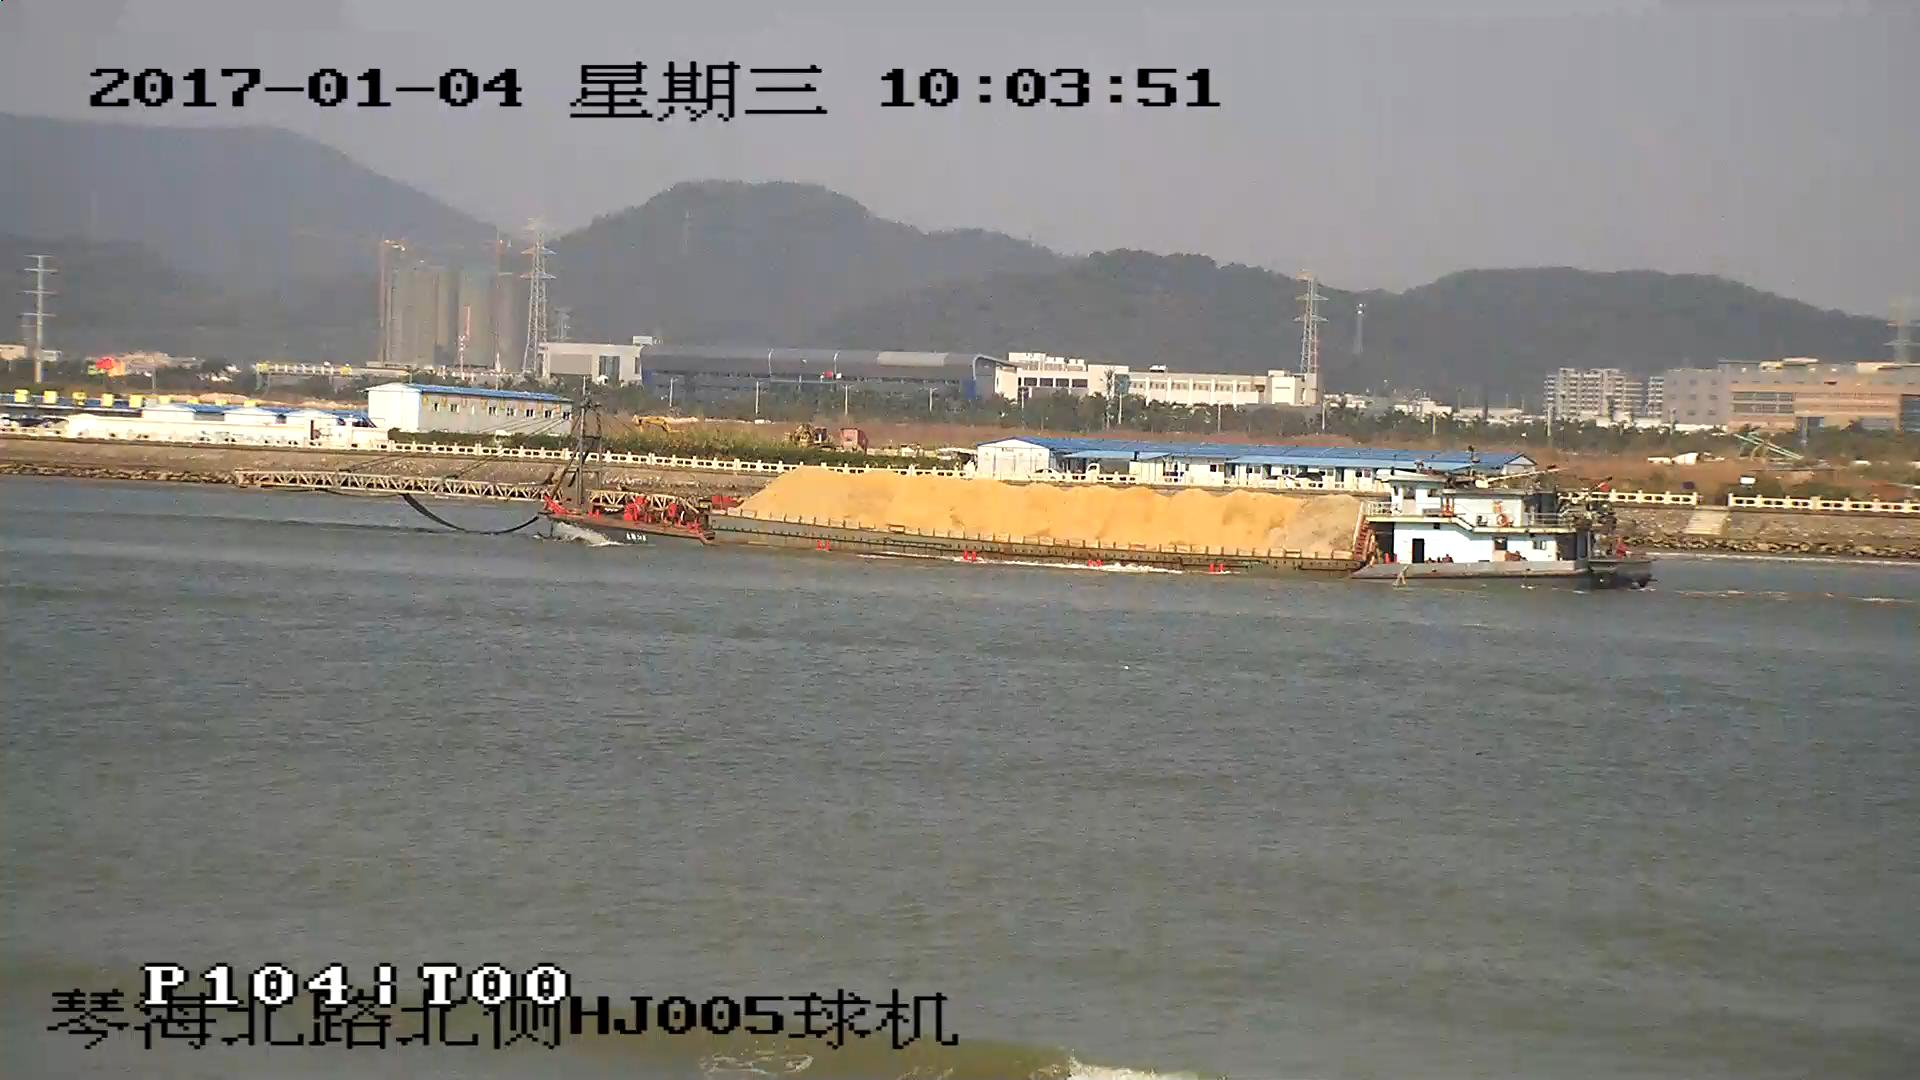ore carrier: (237, 401, 1655, 588)
